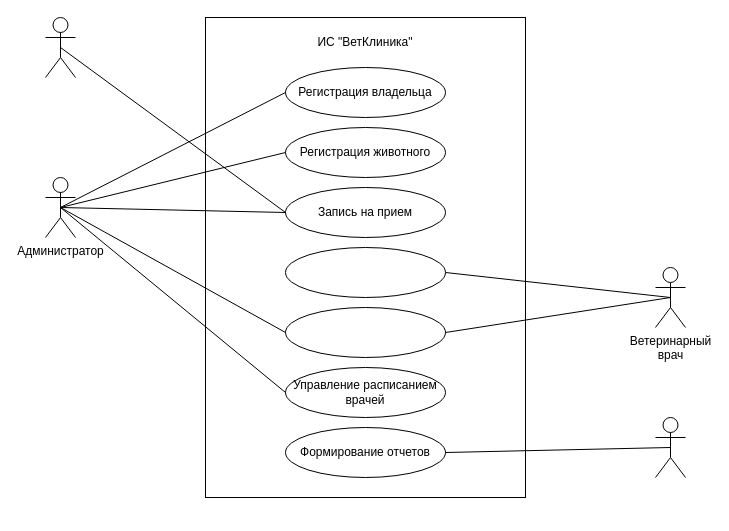
The diagram is 729 pixels wide and 531 high, and some of its shapes have lost their labels. The shapes that lost their labels are listed below. From the top down, each one's centre as x and y in pixels, then its label:
(60,47): Владелец животного
(365,272): Проведение приема
(365,332): Просмотр истории лечения
(670,447): Руководитель клиники
